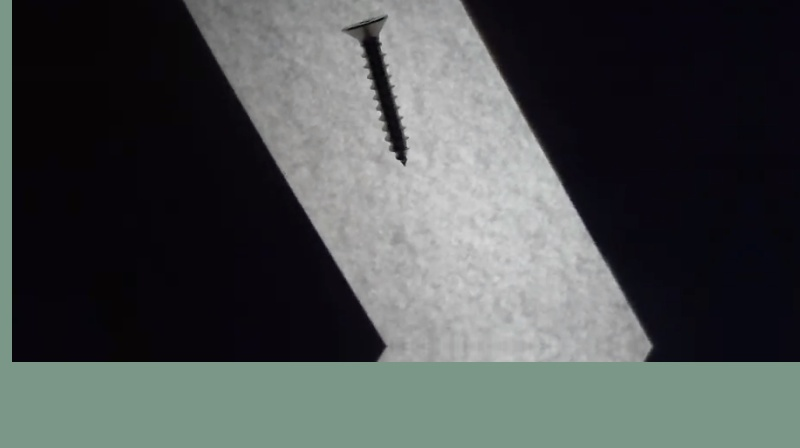S001: (337, 7, 415, 170)
